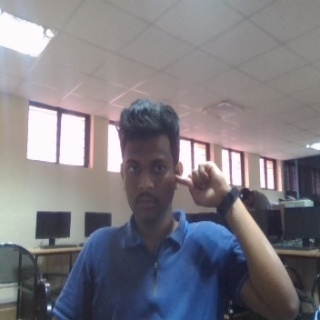Deaf: (176, 160, 228, 208)
Face: (116, 97, 184, 227)
